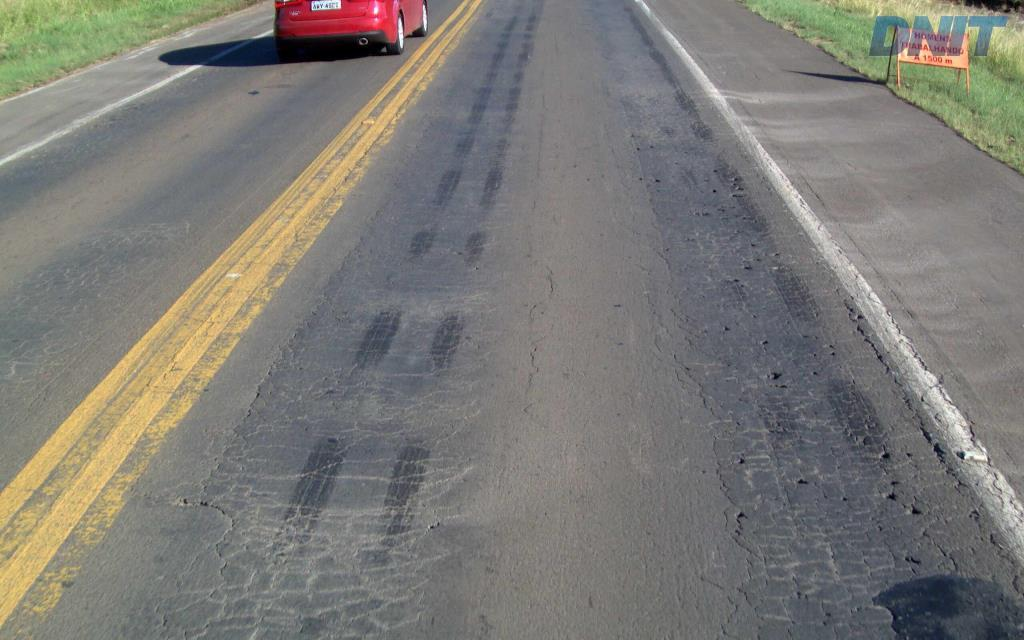crack: (297, 467, 337, 506), (849, 439, 893, 474), (764, 412, 798, 440)
pothole: (172, 494, 211, 511), (767, 366, 787, 381), (904, 504, 924, 518), (879, 446, 893, 464), (879, 489, 897, 502), (734, 507, 747, 520), (790, 479, 817, 485), (732, 454, 746, 465)
